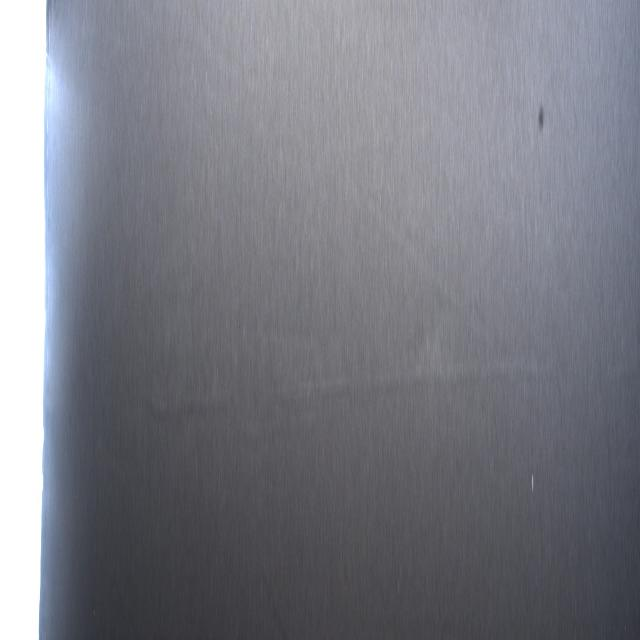crease: (368, 192, 491, 353), (290, 357, 505, 402), (138, 371, 231, 426)
whiteDefect: (531, 466, 534, 494)
